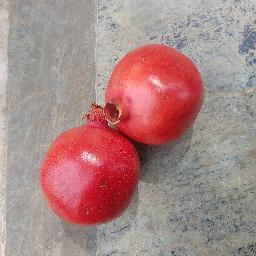Good_pomegranate: (98, 39, 216, 146), (50, 106, 140, 223)
